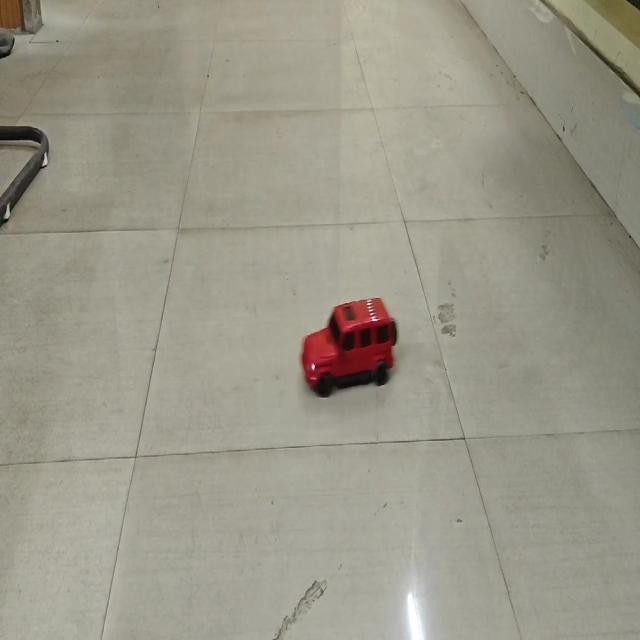light_vehicle: (294, 291, 394, 387)
